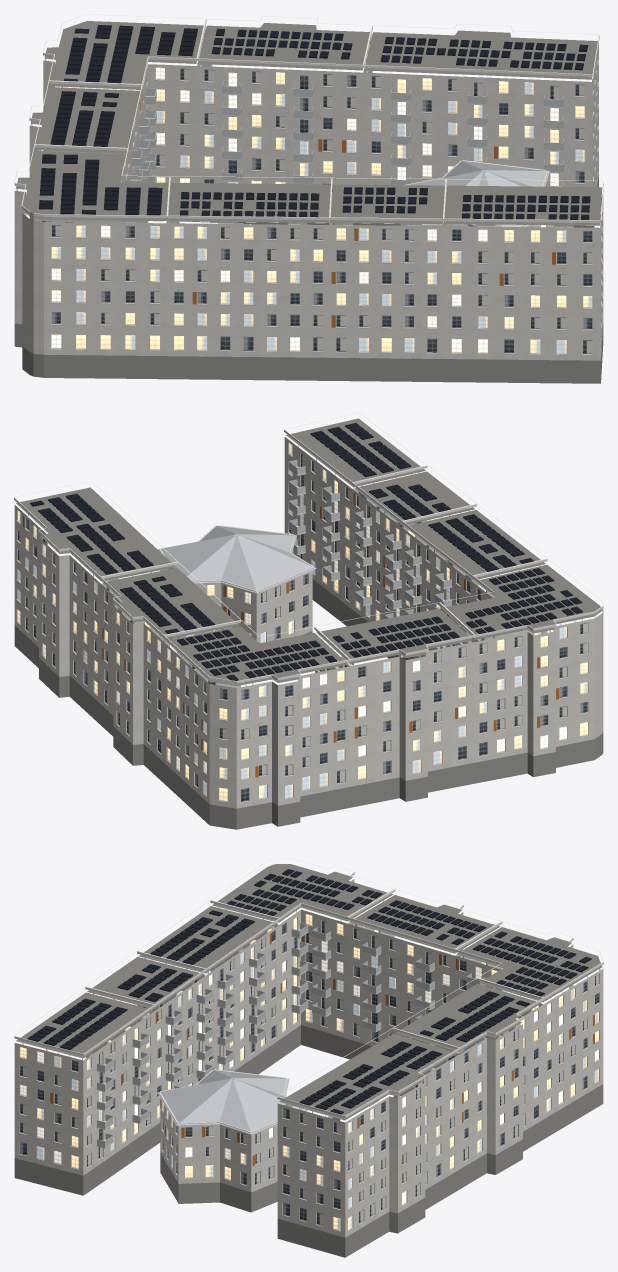
File: hz_egli_sued.glb
3 views of the same model, one above another, from view 1: azimuth 30°, elevation 25°; view 2: azimuth 150°, elevation 25°; view 3: azimuth 270°, elevation 25° (orthographic). The views are drawn at different scales.
Visible parts, largest first — view 1: hz_egli_sued; view 2: hz_egli_sued; view 3: hz_egli_sued.
Boxes of the visible parts, left/top/right/bottom form: hz_egli_sued: left=14, top=14, right=603, bottom=383; hz_egli_sued: left=14, top=412, right=603, bottom=829; hz_egli_sued: left=14, top=858, right=603, bottom=1257.
Bounding box in the file's own units: 90.94 × 23.35 × 87.92.
3 materials, 3 textured.
